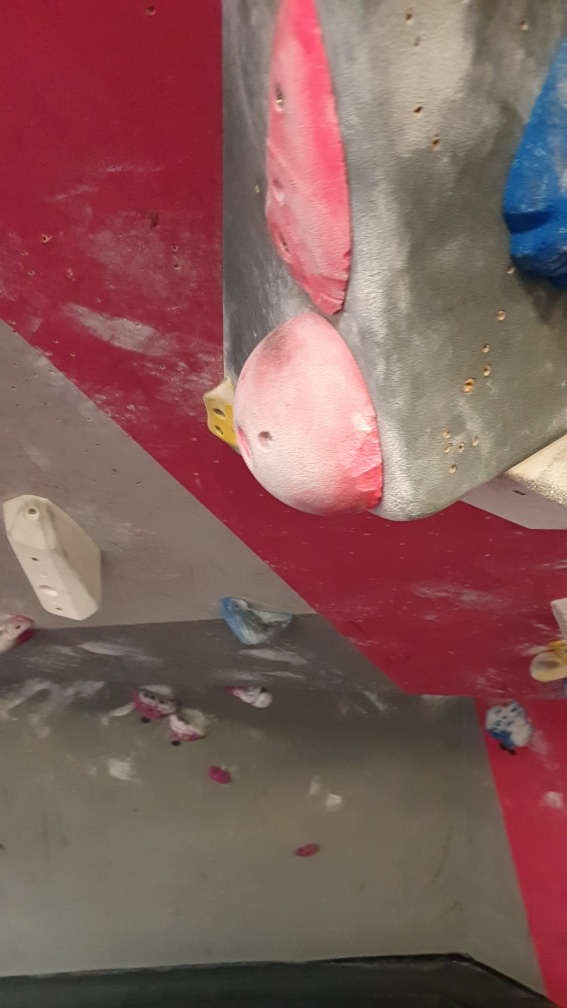Jug: (216, 594, 295, 650)
Pinch: (3, 493, 103, 621)
Sloper: (223, 309, 383, 522)
